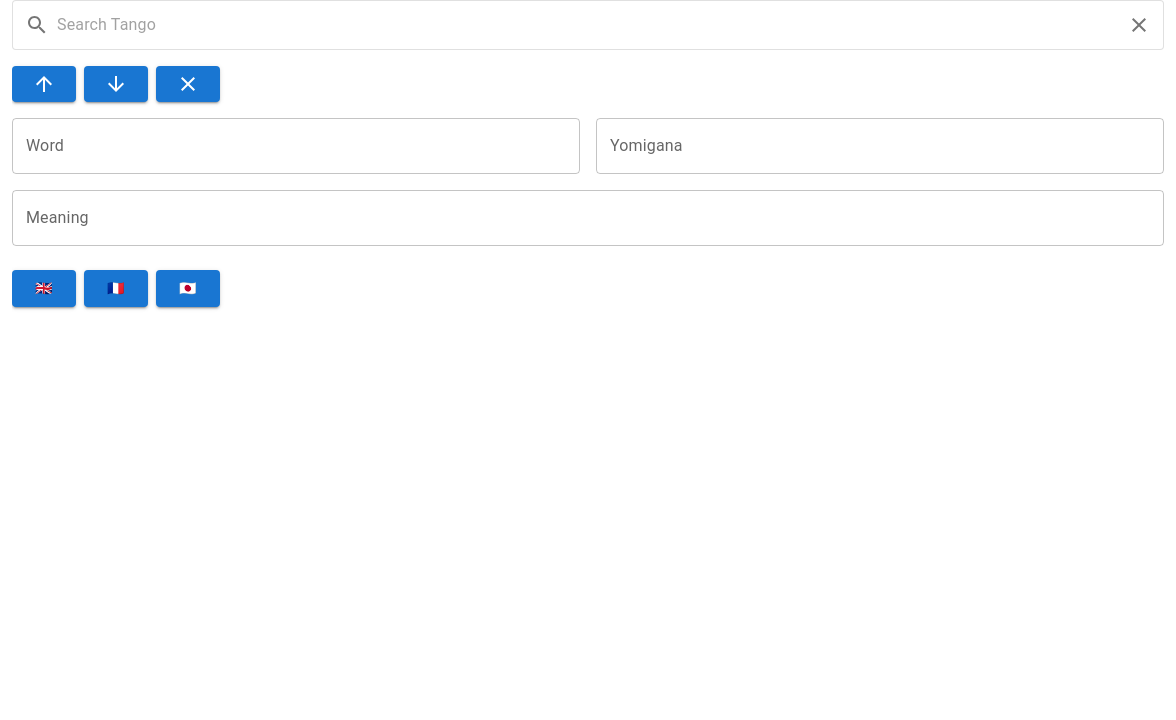
Test: move up then clear
The width and height of the screenshot is (1176, 720).
In the field labelled "Word": (296, 146) [12,118,580,174], type "aaa"
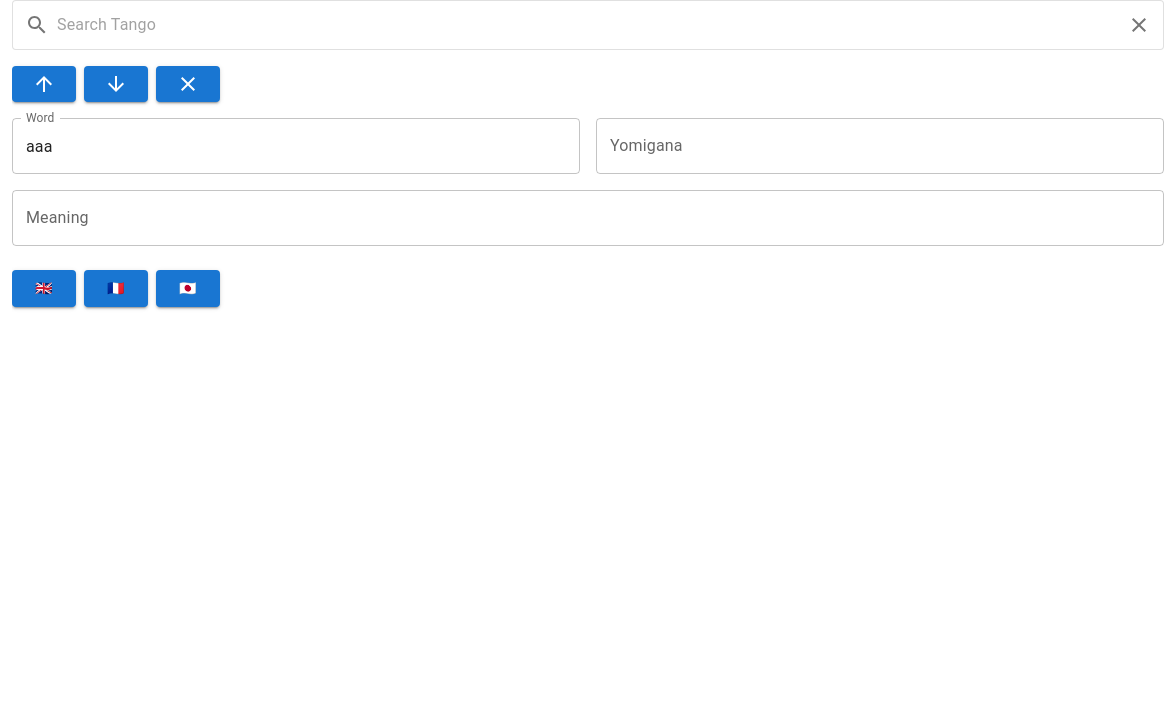
Click the button named "to search": (44, 84) [12,66,76,102]
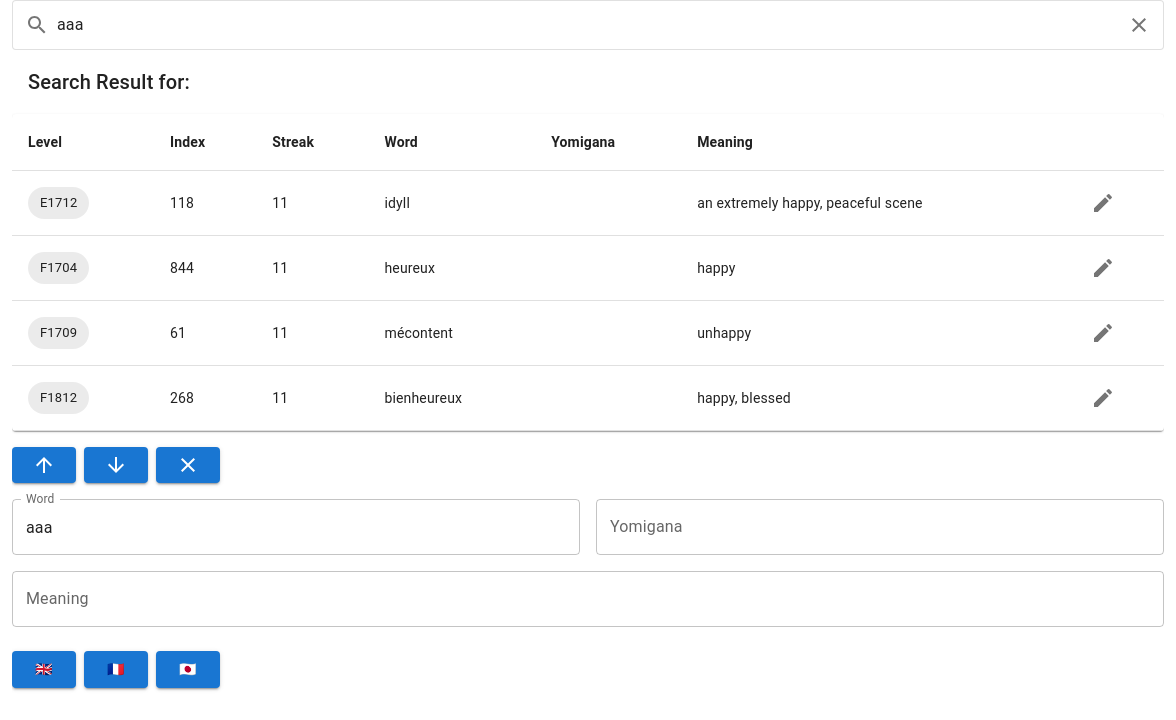
Expected: the field with placeholder "Search Tango" holds "aaa", [57,9,1119,41]
Click the button named "clear all": (188, 465) [156,447,220,483]
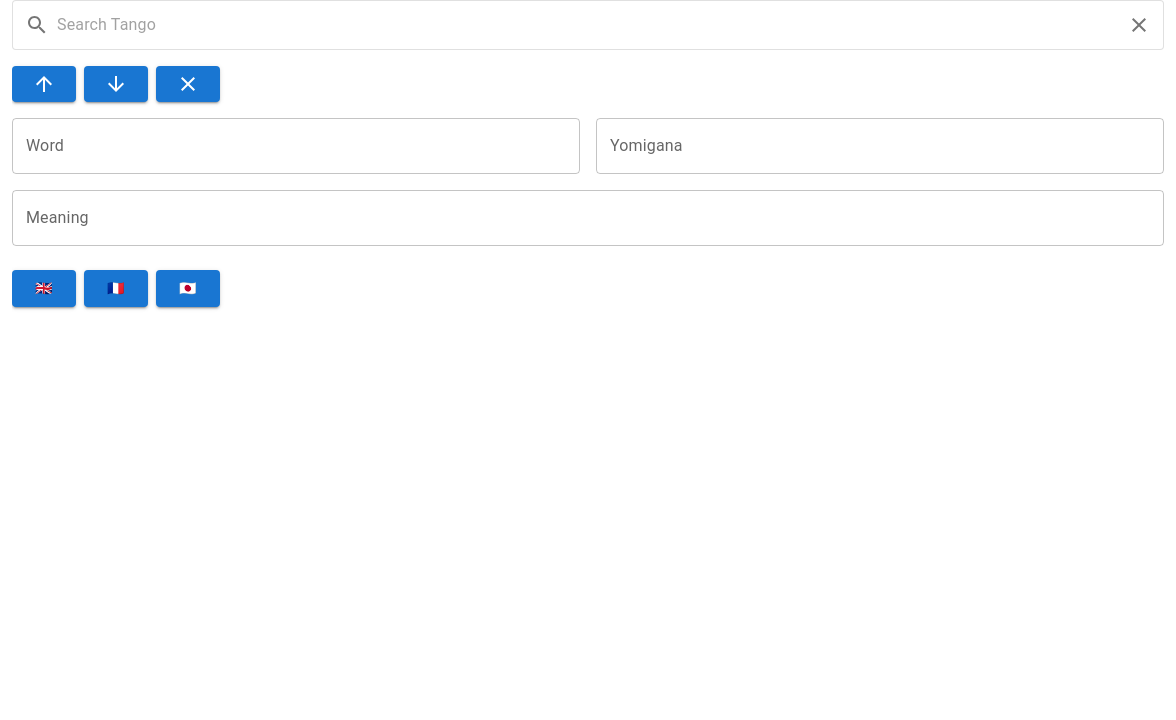
Expected: the field labelled "Word" is empty, [12,118,580,174]
Expected: the field with placeholder "Search Tango" is empty, [57,9,1119,41]
